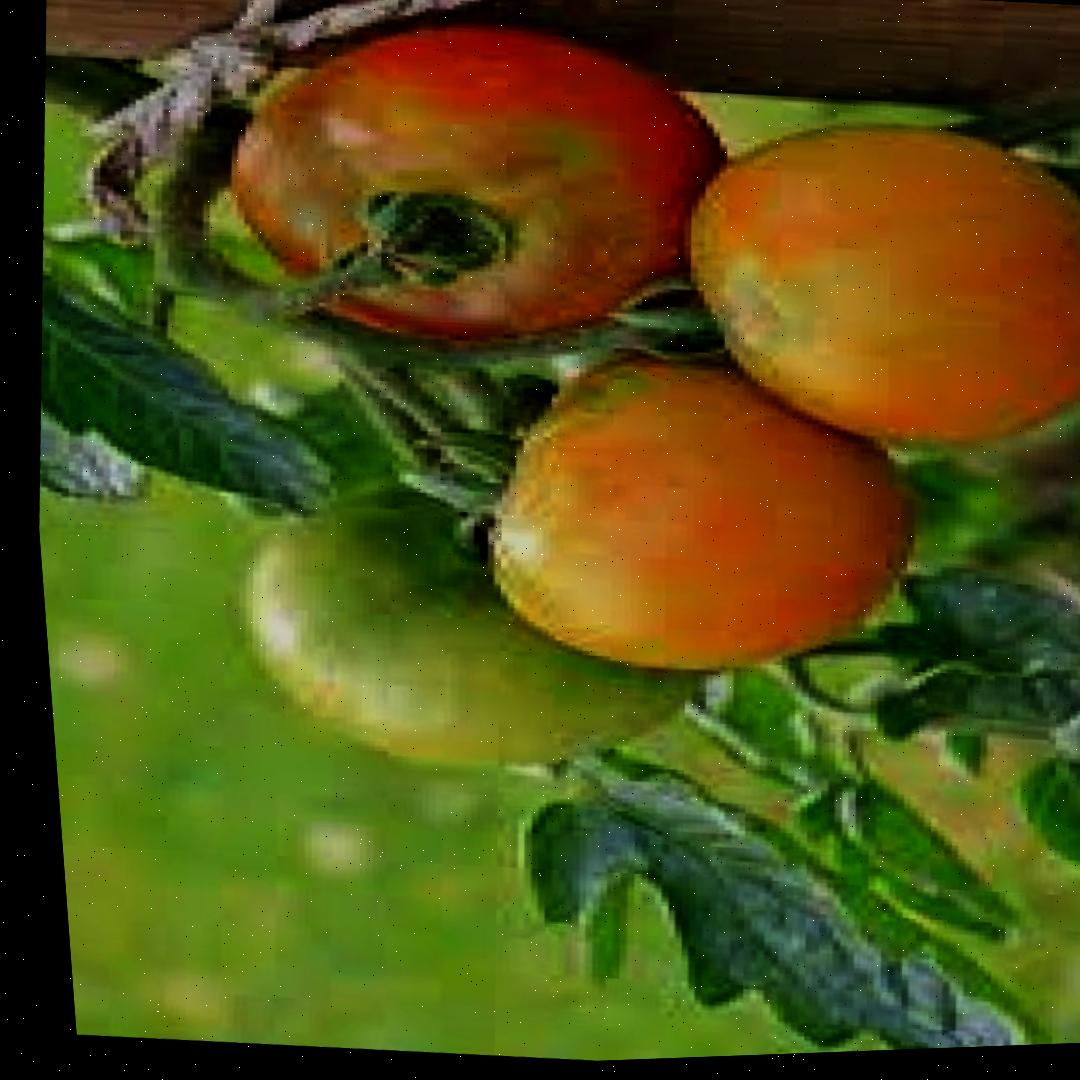matang: (197, 0, 744, 381)
mentah: (207, 448, 736, 807)
setengah_matang: (448, 329, 939, 705), (650, 98, 1080, 478)
